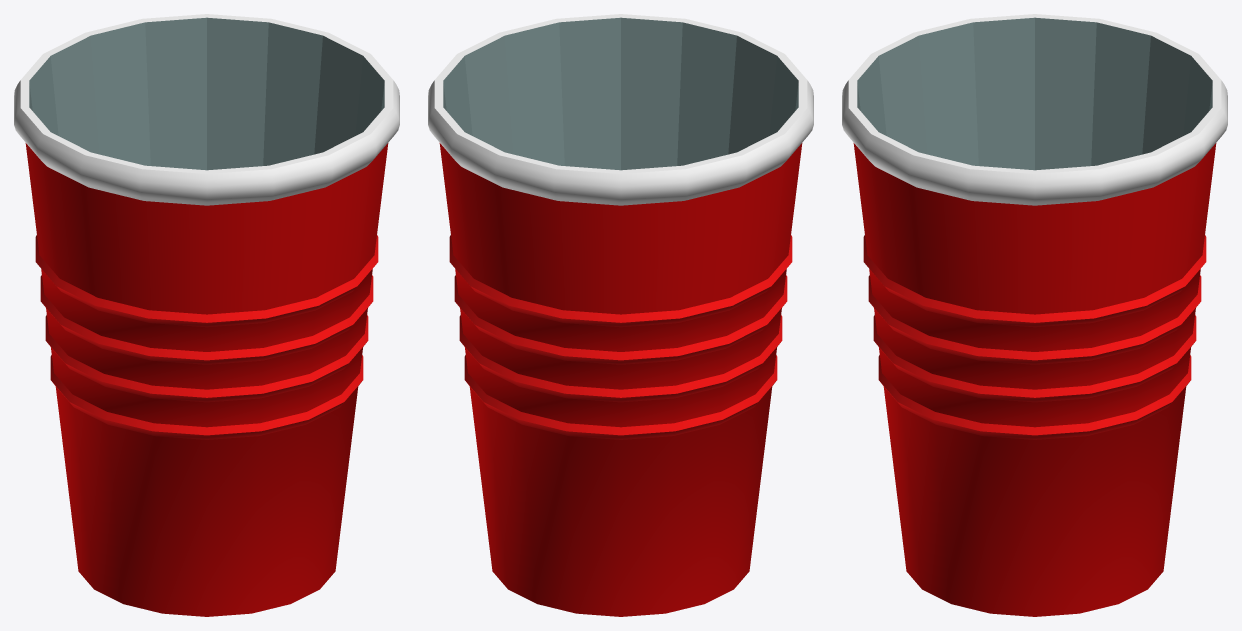
Rendered from gobelet.fbx.
3 renders of one model, left to right at view 1: azimuth 30°, elevation 25°; view 2: azimuth 150°, elevation 25°; view 3: azimuth 270°, elevation 25°, orthographic.
Visible parts, largest first — view 1: Cylinder001; view 2: Cylinder001; view 3: Cylinder001.
Part boxes in pixels (<box>): Cylinder001: <box>14,14,399,616</box>; Cylinder001: <box>428,14,813,616</box>; Cylinder001: <box>842,14,1227,616</box>.
Size of the model in its own units: 31.53 by 41.54 by 31.05.
